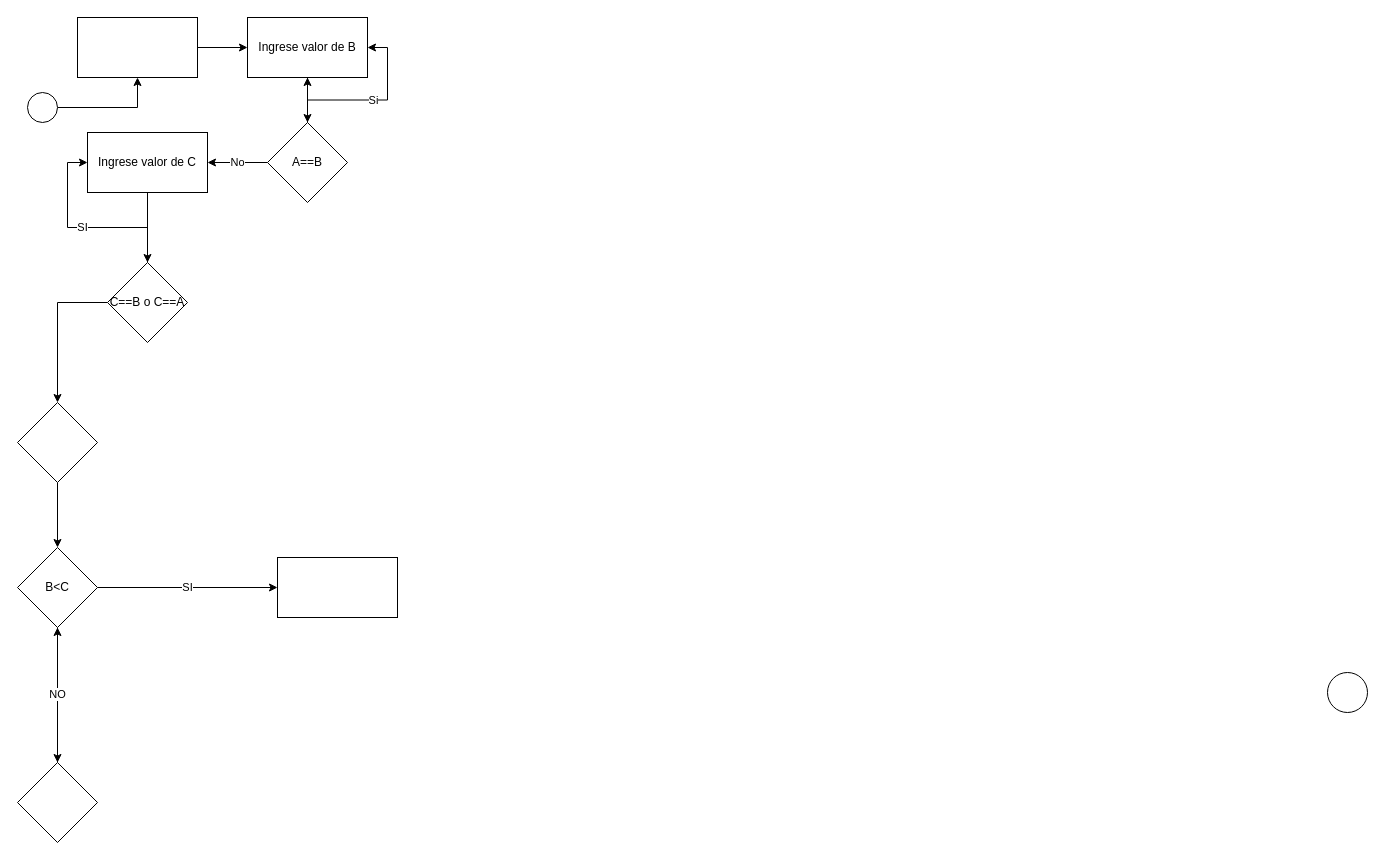
This 1385x860 diagram has some shape labels left out. Each missing label, with the centre of its shape:
"A<B" goes at pixel 57 442.
"A<C" goes at pixel 57 802.
"Ingrese el valor de A+" goes at pixel 137 47.
